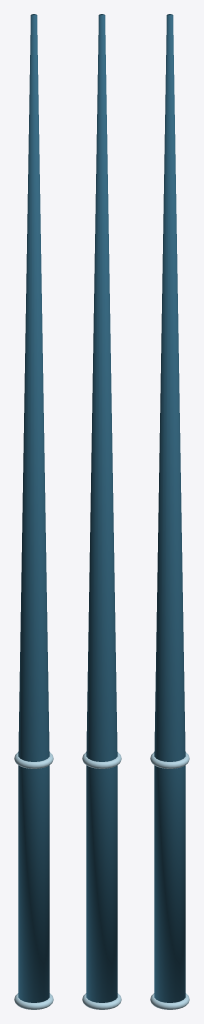
Rendered from Wand.obj.
The picture shows the model from 3 angles, left to right: view 1: azimuth 90°, elevation 25°; view 2: azimuth 150°, elevation 25°; view 3: azimuth 270°, elevation 25°; orthographic projection.
Visible parts, largest first — view 1: Cylinder001, Torus002, Torus001; view 2: Cylinder001, Torus001, Torus002; view 3: Cylinder001, Torus002, Torus001.
Boxes of the visible parts, x1,y1,x2,y2 form: Cylinder001: (18,14,49,1002); Torus002: (14,752,53,768); Torus001: (14,993,53,1009); Cylinder001: (86,14,117,1002); Torus001: (82,993,121,1009); Torus002: (82,752,121,768); Cylinder001: (154,14,185,1002); Torus002: (150,752,189,768); Torus001: (150,993,189,1009).
Size of the model in its own units: 0.3938 by 10.84 by 0.3938.
